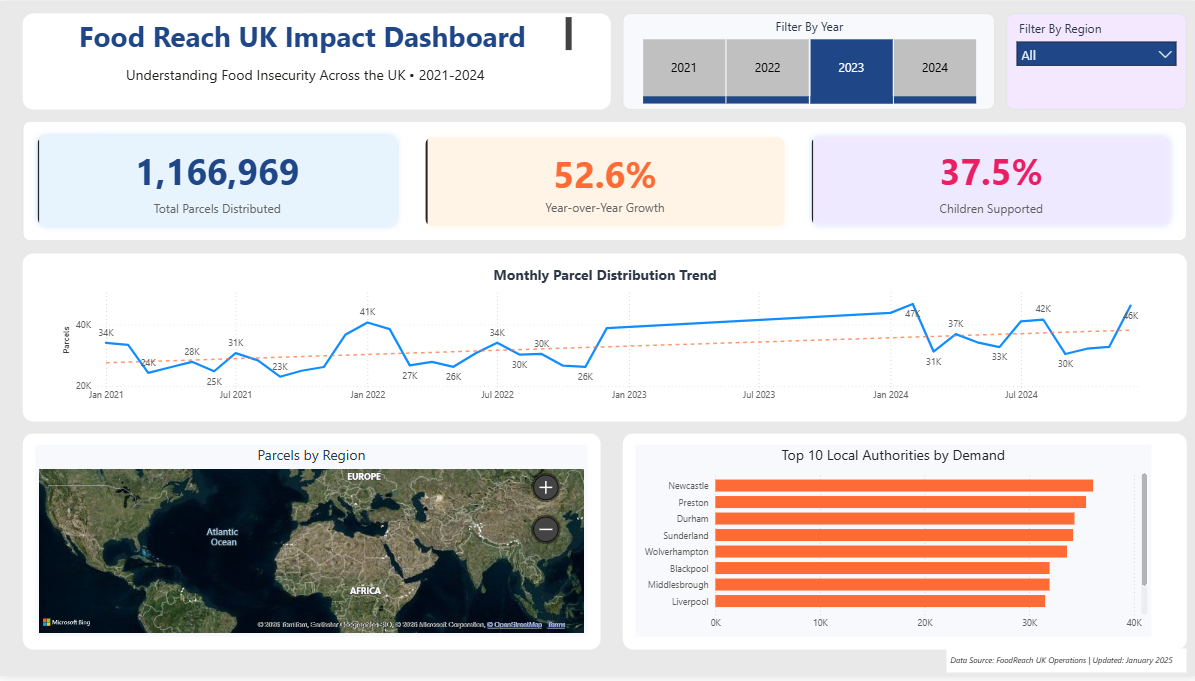

What the dashboard file says about the page in this screenshot:
{"tool":"powerbi","page":{"name":"Executive Overview","canvas":[1600,900],"ordinal":0},"visuals":[{"type":"shape","box":[32,576,770,288],"z":0},{"type":"shape","box":[832,576,752,288],"z":500},{"type":"shape","box":[32,320,1552,240],"z":1000},{"type":"lineChart","title":"Monthly Parcel Distribution Trend ","fields":{"Category":["Dim_Date.Date"],"Y":["_Measures.Total_Parcels"]},"box":[80,352,1456,192],"z":2000},{"type":"filledMap","title":"Parcels by Region","fields":{"Category":["Dim_Location.Region"]},"box":[48,592,736,256],"z":3000},{"type":"clusteredBarChart","title":"Top 10 Local Authorities by Demand","fields":{"Category":["Dim_Location.Local_Authority"],"Y":["_Measures.Total_Parcels"]},"box":[848,592,688,256],"z":4000},{"type":"cardVisual","fields":{"Data":["_Measures.Total_Parcels","_Measures.YoY Growth Pct","_Measures.Percentage of Children"]},"box":[32,160,1552,144],"z":5000},{"type":"slicer","fields":{"Values":["Dim_Location.Region"]},"box":[1344,16,240,128],"z":6000},{"type":"slicer","title":"Filter By Year","fields":{"Values":["Dim_Date.Year"]},"box":[832,16,496,128],"z":7000},{"type":"textbox","box":[1264,864,320,32],"z":8000},{"type":"shape","box":[32,16,784,128],"z":9000},{"type":"textbox","box":[48,16,720,64],"z":10000},{"type":"textbox","box":[48,80,720,48],"z":11000}]}

Visuals, with their boxes in screenshot pixels (x1, y1, x2, y2), scaled from the page's 1600x900 canvas onto the 1195x681 screenshot:
shape: box(24, 436, 599, 654)
shape: box(621, 436, 1183, 654)
shape: box(24, 242, 1183, 424)
"Monthly Parcel Distribution Trend " lineChart: box(60, 266, 1147, 412)
"Parcels by Region" filledMap: box(36, 448, 586, 642)
"Top 10 Local Authorities by Demand" clusteredBarChart: box(633, 448, 1147, 642)
cardVisual - _Measures.Total_Parcels x _Measures.YoY Growth Pct: box(24, 121, 1183, 230)
slicer - Dim_Location.Region: box(1004, 12, 1183, 109)
"Filter By Year" slicer: box(621, 12, 992, 109)
textbox: box(944, 654, 1183, 678)
shape: box(24, 12, 609, 109)
textbox: box(36, 12, 574, 61)
textbox: box(36, 61, 574, 97)
